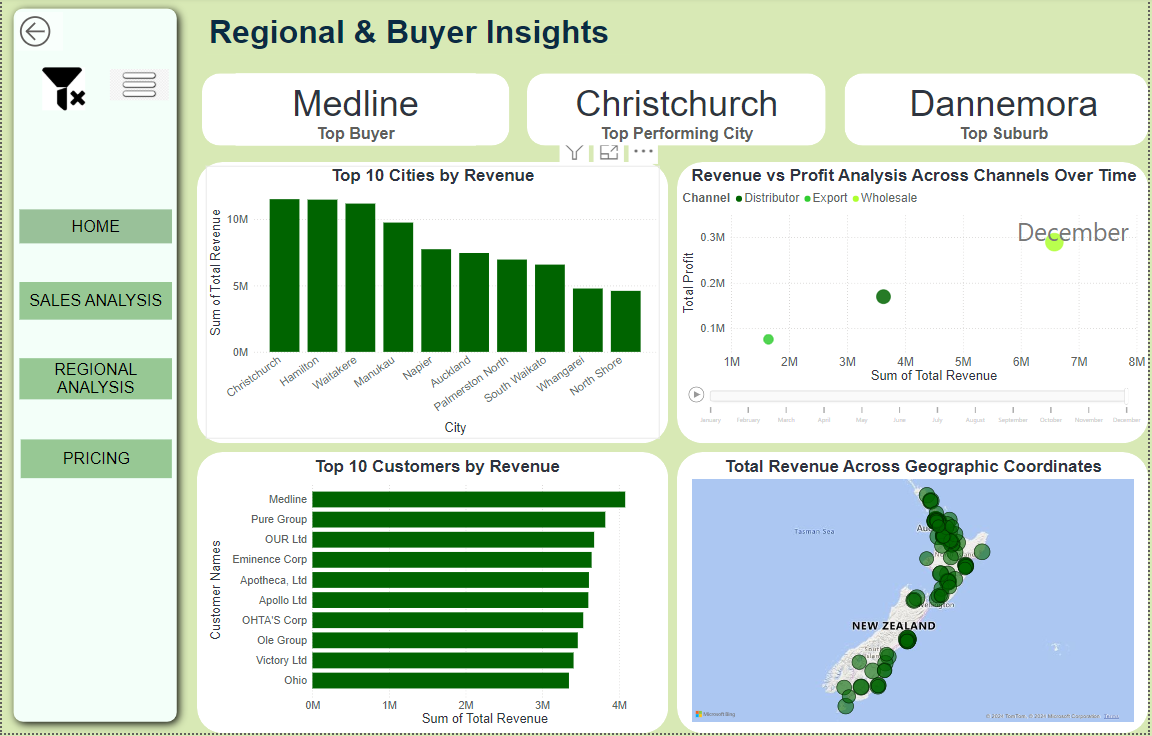

This screenshot's page, from the dashboard's own definition file:
{"tool":"powerbi","page":{"name":"Regional Insights","canvas":[1900,1220],"ordinal":2},"visuals":[{"type":"textbox","box":[337.7,22.8,704.5,72.5],"z":0},{"type":"shape","box":[0,0,308.7,1220.4],"z":1000},{"type":"shape","box":[323.2,273.5,781.2,466.2],"z":2000},{"type":"columnChart","title":"Top 10 Cities by Revenue","fields":{"Category":["Sales_Data.City"],"Y":["Sum(Sales_Data.Total Revenue)"]},"box":[337.7,279.7,752.1,451.7],"z":3000},{"type":"shape","box":[1118.9,273.5,781.2,466.2],"z":4000},{"type":"shape","box":[323.2,754.2,781.2,466.2],"z":5000},{"type":"barChart","title":"Top 10 Customers by Revenue","fields":{"Category":["Sales_Data.Customer Names"],"Y":["Sum(Sales_Data.Total Revenue)"]},"box":[337.7,762.5,766.6,451.7],"z":6000},{"type":"shape","box":[1118.9,754.2,781.2,466.2],"z":7000},{"type":"map","title":"Total Revenue Across Geographic Coordinates","fields":{"Y":["Sales_Data.Latitude"],"X":["Sales_Data.Longitude"],"Size":["Sum(Sales_Data.Total Revenue)"]},"box":[1139.6,762.5,741.8,445.5],"z":8000},{"type":"shape","box":[331.5,126.4,509.7,120.2],"z":9000},{"type":"card","fields":{"Values":["Sales_Data.Top Buyer"]},"box":[387.5,126.4,397.8,120.2],"z":10000},{"type":"shape","box":[870.1,126.4,495.2,120.2],"z":11000},{"type":"card","fields":{"Values":["Sales_Data.Top Performing City"]},"box":[888.7,126.4,460,120.2],"z":12000},{"type":"shape","box":[1396.5,126.4,503.5,120.2],"z":13000},{"type":"card","fields":{"Values":["Sales_Data.Top Suburb"]},"box":[1421.4,126.4,478.6,120.2],"z":14000},{"type":"actionButton","box":[22.8,24.9,78.7,64.2],"z":15000},{"type":"actionButton","box":[29,352.2,252.8,55.9],"z":16000},{"type":"actionButton","box":[29,472.4,252.8,62.2],"z":17000},{"type":"actionButton","box":[29,598.8,252.8,68.4],"z":18000},{"type":"actionButton","box":[31.1,733.5,250.7,64.2],"z":19000},{"type":"actionButton","box":[176.1,93.2,101.5,103.6],"z":21000},{"type":"image","box":[174,95.3,107.7,99.5],"z":22000},{"type":"image","box":[53.9,111.9,97.4,80.8],"z":23000},{"type":"scatterChart","title":"Revenue vs Profit Analysis Across Channels Over Time","fields":{"X":["Sum(Sales_Data.Total Revenue)"],"Y":["Sales_Data.Total Profit"],"Size":["Sum(Sales_Data.Order Quantity)"],"Play":["Sales_Data.OrderDate.Variation.Date Hierarchy.Month"],"Series":["Sales_Data.Channel"]},"box":[1123,279.7,777,445.5],"z":24000}]}

Visuals, with their boxes on the page's 1900x1220 design canvas (x1, y1, x2, y2). These are canvas units, not pixel positions in the 1152x736 screenshot, which may show the page scaled, cropped or inside an application window:
textbox: <box>338,23,1042,95</box>
shape: <box>0,0,309,1220</box>
shape: <box>323,274,1104,740</box>
"Top 10 Cities by Revenue" columnChart: <box>338,280,1090,731</box>
shape: <box>1119,274,1900,740</box>
shape: <box>323,754,1104,1220</box>
"Top 10 Customers by Revenue" barChart: <box>338,762,1104,1214</box>
shape: <box>1119,754,1900,1220</box>
"Total Revenue Across Geographic Coordinates" map: <box>1140,762,1881,1208</box>
shape: <box>332,126,841,247</box>
card - Sales_Data.Top Buyer: <box>388,126,785,247</box>
shape: <box>870,126,1365,247</box>
card - Sales_Data.Top Performing City: <box>889,126,1349,247</box>
shape: <box>1396,126,1900,247</box>
card - Sales_Data.Top Suburb: <box>1421,126,1900,247</box>
actionButton: <box>23,25,102,89</box>
actionButton: <box>29,352,282,408</box>
actionButton: <box>29,472,282,535</box>
actionButton: <box>29,599,282,667</box>
actionButton: <box>31,734,282,798</box>
actionButton: <box>176,93,278,197</box>
image: <box>174,95,282,195</box>
image: <box>54,112,151,193</box>
"Revenue vs Profit Analysis Across Channels Over Time" scatterChart: <box>1123,280,1900,725</box>
